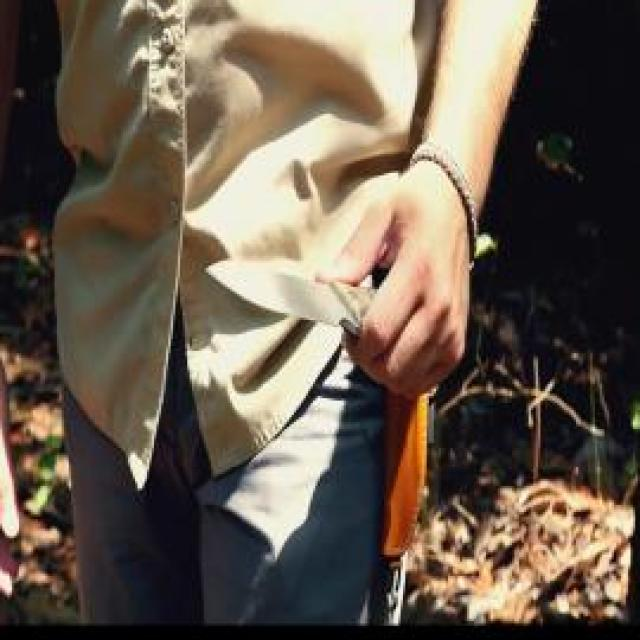knife: (200, 228, 448, 400)
